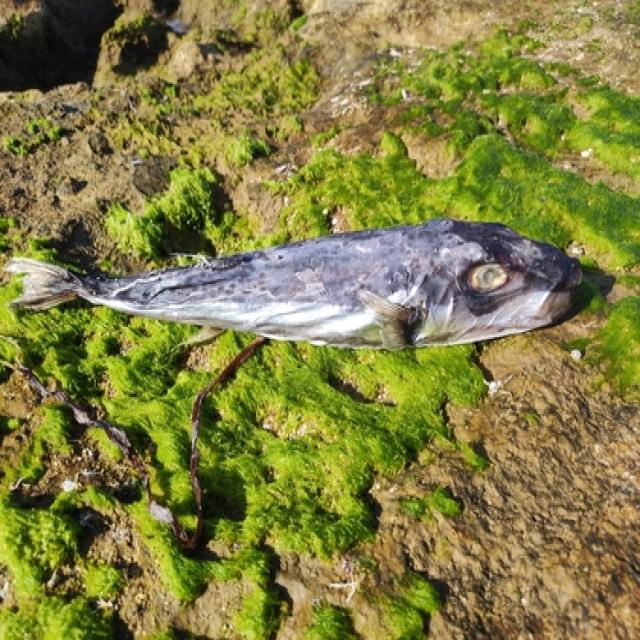Balik: (6, 220, 581, 349)
